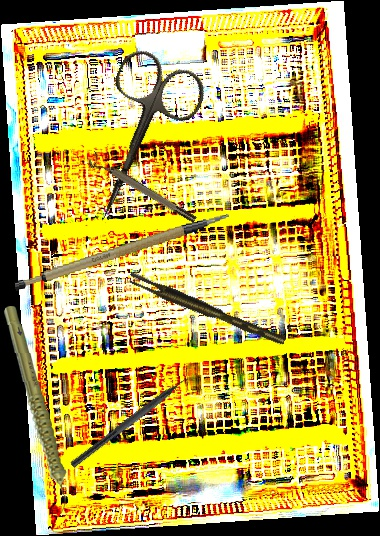Chopper: (69, 367, 203, 477)
Fixation Ring: (86, 150, 198, 230)
Handpiece: (1, 304, 70, 516)
Iris Scissors: (61, 44, 212, 236)
Scalpel Handle: (8, 212, 237, 295)
Tissue Forceps: (126, 266, 287, 354)
